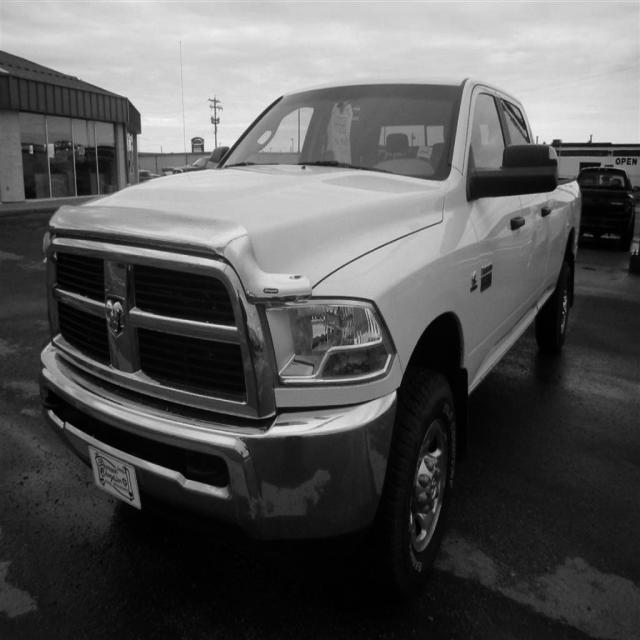car: (38, 76, 583, 599), (575, 166, 636, 250)
